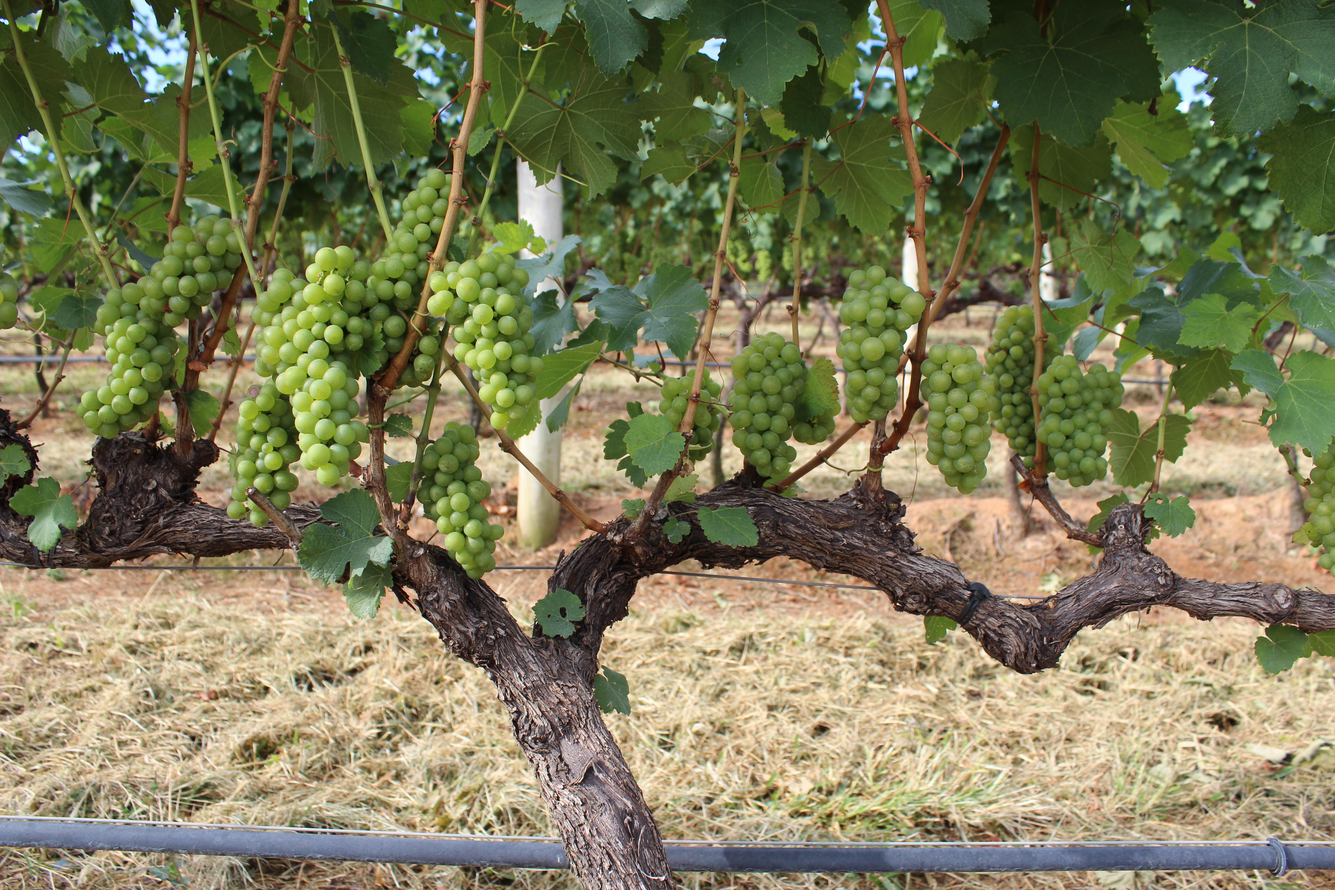leaf: (975, 0, 1159, 146), (1148, 0, 1335, 136), (507, 72, 642, 197), (690, 0, 850, 105), (812, 114, 912, 234), (1259, 105, 1335, 234), (297, 489, 393, 582), (1102, 100, 1193, 188), (308, 27, 363, 168), (352, 60, 419, 164), (634, 263, 708, 356), (1269, 351, 1335, 452), (919, 58, 995, 144), (635, 70, 710, 145), (575, 0, 648, 76), (1039, 132, 1111, 209), (1127, 287, 1199, 362), (1069, 219, 1141, 293), (327, 12, 397, 85), (1268, 255, 1335, 330), (10, 477, 77, 552), (1179, 293, 1260, 354), (1171, 349, 1247, 410), (1104, 409, 1158, 487), (533, 342, 604, 399), (516, 234, 580, 297), (590, 285, 648, 351), (780, 66, 833, 138), (623, 414, 685, 475), (0, 55, 42, 145), (1043, 275, 1096, 346), (888, 0, 944, 66), (529, 289, 578, 356), (29, 214, 82, 274), (603, 418, 648, 487), (794, 356, 840, 422), (920, 0, 991, 41), (1255, 623, 1307, 674), (533, 588, 586, 638), (343, 564, 392, 618), (1230, 349, 1284, 397), (738, 157, 784, 212), (640, 141, 697, 184), (698, 507, 758, 547), (543, 376, 584, 432), (1143, 494, 1195, 537), (0, 178, 53, 217), (594, 666, 631, 714), (515, 0, 567, 34), (184, 389, 220, 436), (83, 0, 131, 35), (490, 220, 534, 253), (1011, 126, 1033, 189), (506, 402, 541, 440), (0, 443, 32, 484), (1164, 414, 1190, 461), (385, 460, 414, 502), (630, 0, 688, 21), (603, 418, 628, 459), (1305, 630, 1335, 657), (662, 516, 691, 543), (627, 402, 643, 418), (1178, 290, 1187, 301), (532, 410, 538, 418), (779, 185, 782, 195), (1262, 147, 1270, 150), (756, 158, 764, 160), (1040, 161, 1042, 169), (1331, 173, 1335, 176), (642, 173, 647, 175), (538, 172, 541, 175), (222, 204, 226, 206), (1040, 186, 1041, 194), (1285, 87, 1287, 90), (910, 0, 912, 2), (540, 182, 542, 184), (691, 165, 693, 167), (739, 184, 742, 185), (141, 225, 142, 228), (1332, 161, 1335, 162), (5, 143, 7, 144), (294, 97, 295, 99), (646, 161, 648, 162), (215, 47, 216, 48), (405, 462, 406, 463), (146, 168, 147, 169), (753, 205, 754, 205), (744, 173, 744, 176)
